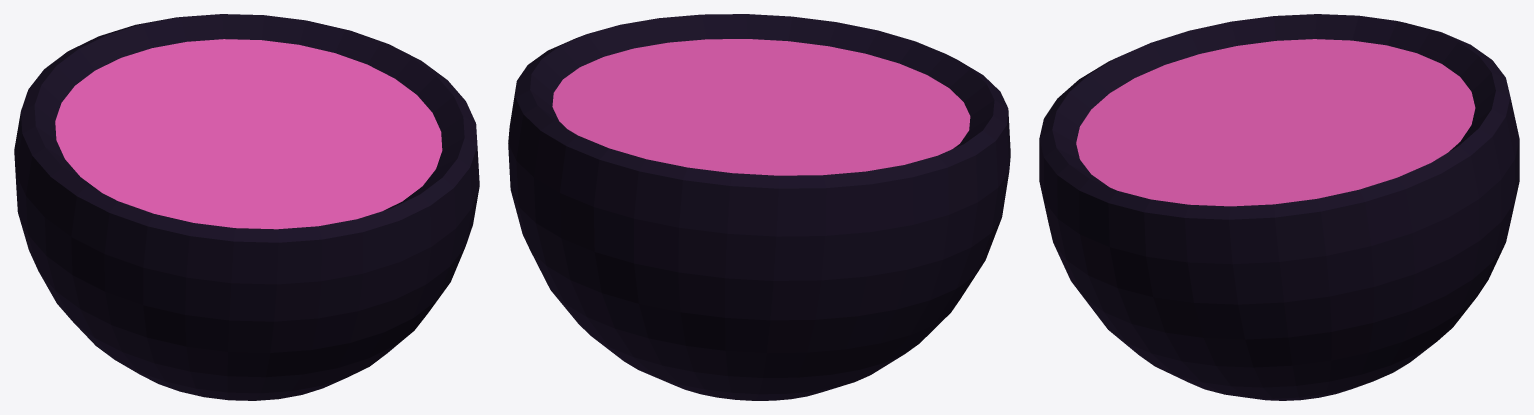
3 renders of one model, left to right at view 1: azimuth 30°, elevation 25°; view 2: azimuth 150°, elevation 25°; view 3: azimuth 270°, elevation 25°, orthographic. The views are drawn at different scales.
Parts seen in each view (by area): view 1: Sphere; view 2: Sphere; view 3: Sphere.
Boxes of the visible parts, left/top/right/bottom form: Sphere: left=14, top=14, right=479, bottom=400; Sphere: left=508, top=14, right=1010, bottom=400; Sphere: left=1039, top=14, right=1519, bottom=400.
Bounding box in the file's own units: 200 × 131 × 199.
